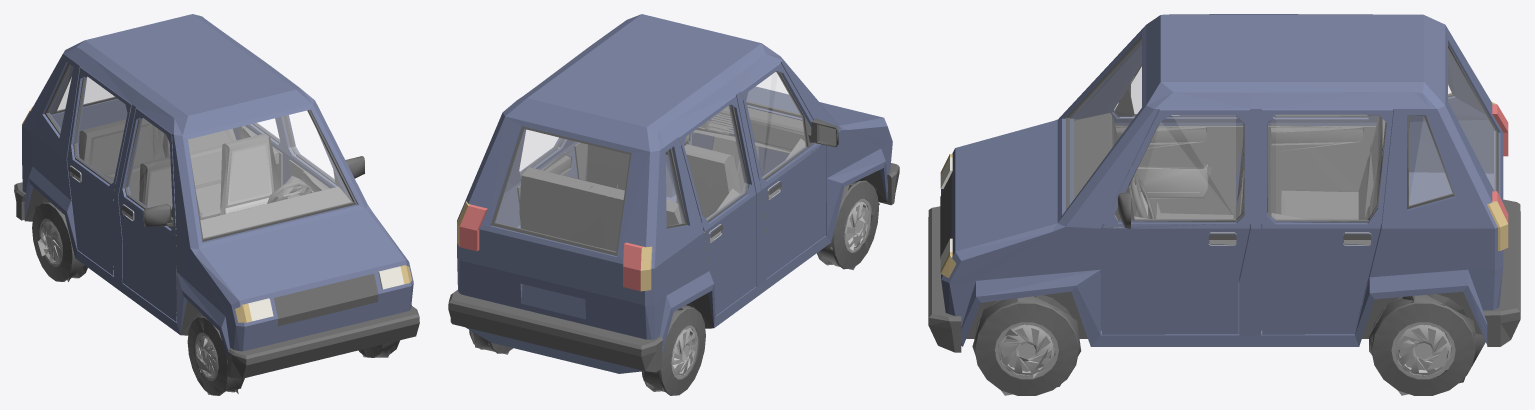
Rendered from klein.glb.
The picture shows the model from 3 angles, left to right: view 1: azimuth 30°, elevation 25°; view 2: azimuth 150°, elevation 25°; view 3: azimuth 270°, elevation 25°; orthographic projection. The views are drawn at different scales.
Visible parts, largest first — view 1: romp, ver, wiel_ar, wiel_vr; view 2: romp, ver, wiel_ar, wiel_vr; view 3: romp, ver, wiel_vl, wiel_al.
Boxes of the visible parts, x1,y1,x2,y2 form: romp: [14, 14, 419, 395]; ver: [37, 69, 411, 394]; wiel_ar: [32, 202, 84, 281]; wiel_vr: [187, 316, 241, 395]; romp: [448, 14, 899, 395]; ver: [470, 76, 891, 390]; wiel_ar: [643, 305, 705, 395]; wiel_vr: [819, 181, 878, 270]; romp: [928, 14, 1520, 379]; ver: [976, 41, 1494, 379]; wiel_vl: [972, 296, 1081, 395]; wiel_al: [1369, 295, 1475, 395].
Size of the model in its own units: 1.94 by 1.97 by 3.55.
